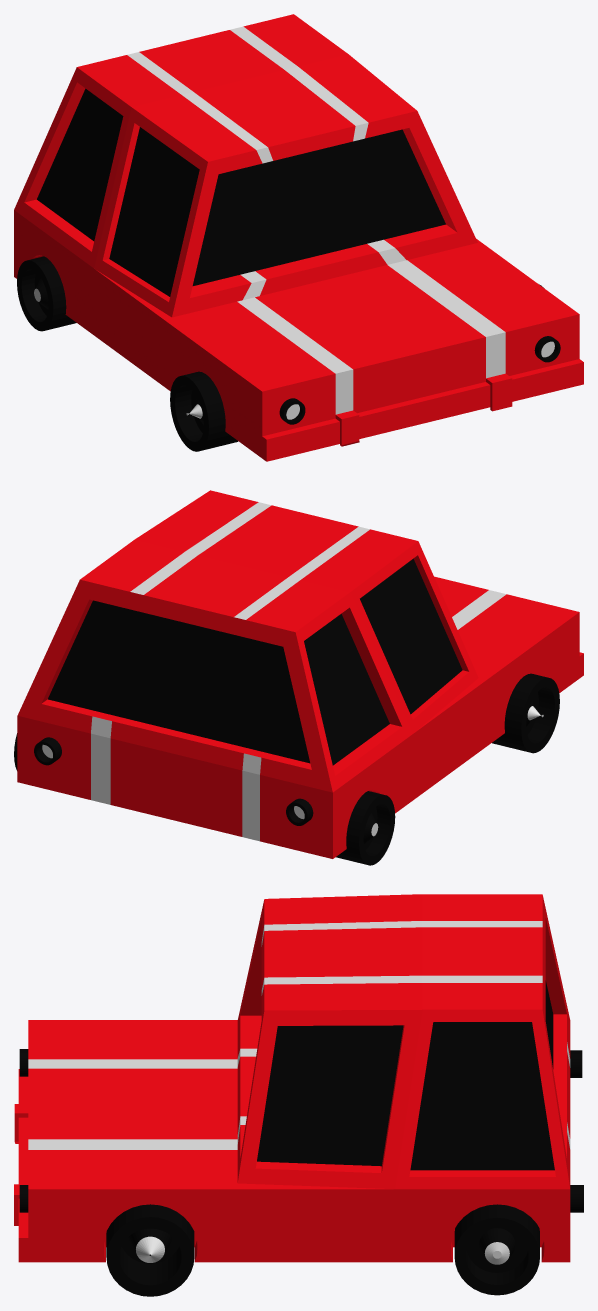
The model's file is car.fbx.
The picture shows the model from 3 angles, top to bottom: view 1: azimuth 30°, elevation 25°; view 2: azimuth 150°, elevation 25°; view 3: azimuth 270°, elevation 25°; orthographic projection. The views are drawn at different scales.
Parts seen in each view (by area): view 1: Cube; view 2: Cube; view 3: Cube.
Part boxes in pixels (left/top/right/bottom): Cube: left=14, top=14, right=583, bottom=461; Cube: left=14, top=490, right=583, bottom=865; Cube: left=14, top=894, right=583, bottom=1296.
Size of the model in its own units: 392 by 248 by 501.
